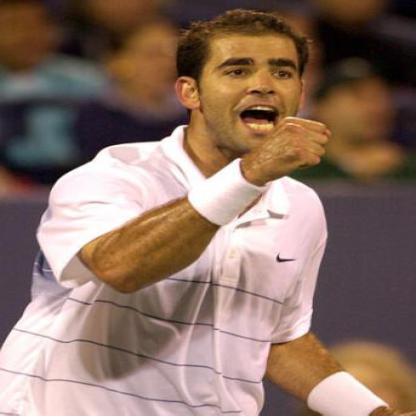face: (198, 14, 309, 153), (330, 71, 395, 141), (136, 34, 193, 93), (1, 2, 51, 65)
